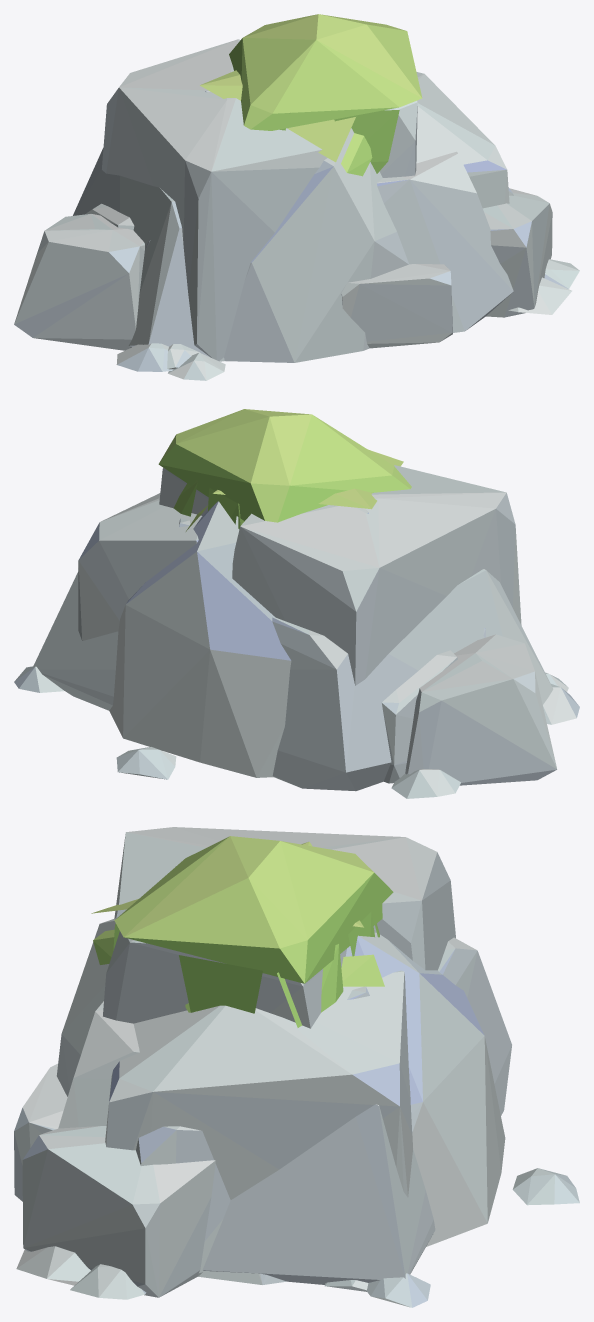
The model's file is meadow_rocks.glb.
3 views of the same model, one above another, from view 1: azimuth 30°, elevation 25°; view 2: azimuth 150°, elevation 25°; view 3: azimuth 270°, elevation 25° (orthographic). The views are drawn at different scales.
Visible parts, largest first — view 1: rock_c, rock_a, rock_d, rock_b; view 2: rock_a, rock_c, rock_d, rock_b; view 3: rock_c, rock_d, rock_b, rock_a.
Boxes of the visible parts, x1,y1,x2,y2 form: rock_c: (102,39,579,380); rock_a: (14,147,571,371); rock_d: (145,70,552,369); rock_b: (86,14,513,230); rock_a: (14,518,579,791); rock_c: (78,465,568,798); rock_d: (109,449,485,779); rock_b: (158,409,457,783); rock_c: (14,827,455,1299); rock_d: (22,841,579,1297); rock_b: (103,836,393,1291); rock_a: (16,937,511,1307).
Size of the model in its own units: 1.19 by 0.6165 by 0.9185.
